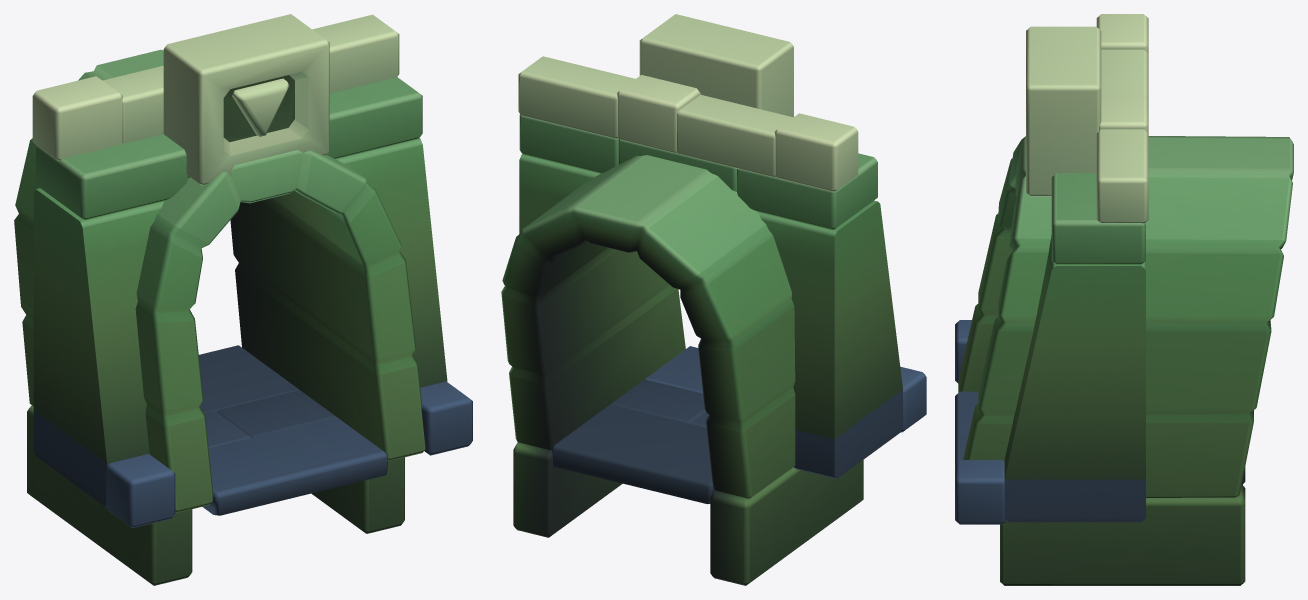
Rendered from doorway_down_wall_walkable.fbx.
3 renders of one model, left to right at view 1: azimuth 30°, elevation 25°; view 2: azimuth 150°, elevation 25°; view 3: azimuth 270°, elevation 25°, orthographic. The views are drawn at different scales.
Parts seen in each view (by area): view 1: doorway_down_wall_walkable; view 2: doorway_down_wall_walkable; view 3: doorway_down_wall_walkable.
Part boxes in pixels (x1,y1,x2,y2): doorway_down_wall_walkable: [14, 14, 472, 585]; doorway_down_wall_walkable: [501, 14, 926, 585]; doorway_down_wall_walkable: [955, 14, 1293, 585].
Bounding box in the file's own units: 405 × 552 × 359.
